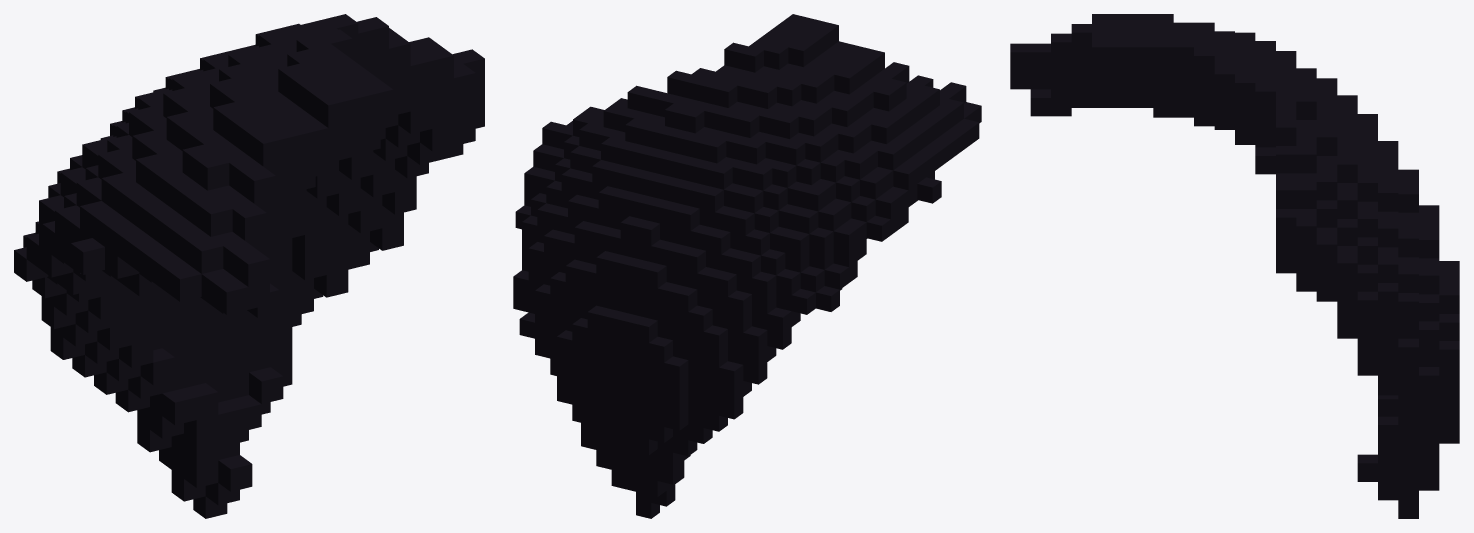
The model's file is BombDefaultShards-4-1.obj.
3 views of the same model, side by side, from view 1: azimuth 30°, elevation 25°; view 2: azimuth 150°, elevation 25°; view 3: azimuth 270°, elevation 25° (orthographic). The views are drawn at different scales.
Bounding box in the file's own units: 2.2 × 2.5 × 2.2.
Materials: 1 (1 with a texture image).
